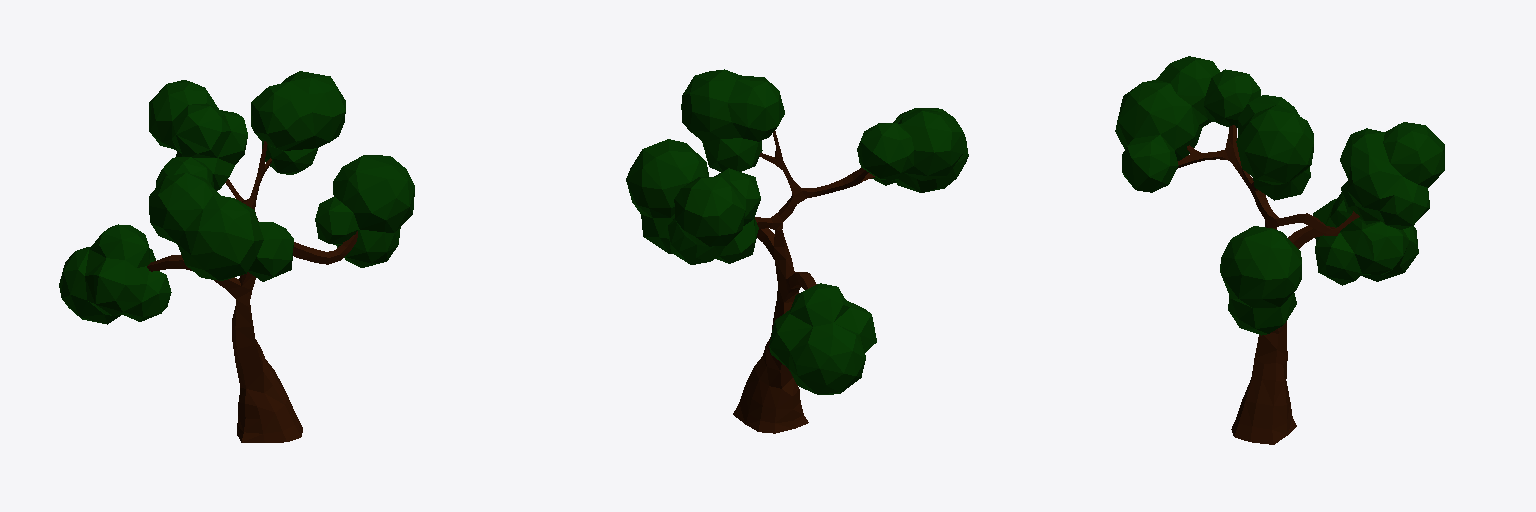
Rendered from 1tree_little.obj.
The picture shows the model from 3 angles: view 1: azimuth 30°, elevation 25°; view 2: azimuth 150°, elevation 25°; view 3: azimuth 270°, elevation 25°; orthographic projection.
Visible parts, largest first — view 1: LowPoly_Tree_04_lowpoly_tree_05_Mesh.001; view 2: LowPoly_Tree_04_lowpoly_tree_05_Mesh.001; view 3: LowPoly_Tree_04_lowpoly_tree_05_Mesh.001.
Part boxes in pixels (x1,y1,x2,y2): LowPoly_Tree_04_lowpoly_tree_05_Mesh.001: (59,71,414,442); LowPoly_Tree_04_lowpoly_tree_05_Mesh.001: (626,69,968,433); LowPoly_Tree_04_lowpoly_tree_05_Mesh.001: (1115,56,1444,444).
Size of the model in its own units: 0.3815 by 0.4286 by 0.376.